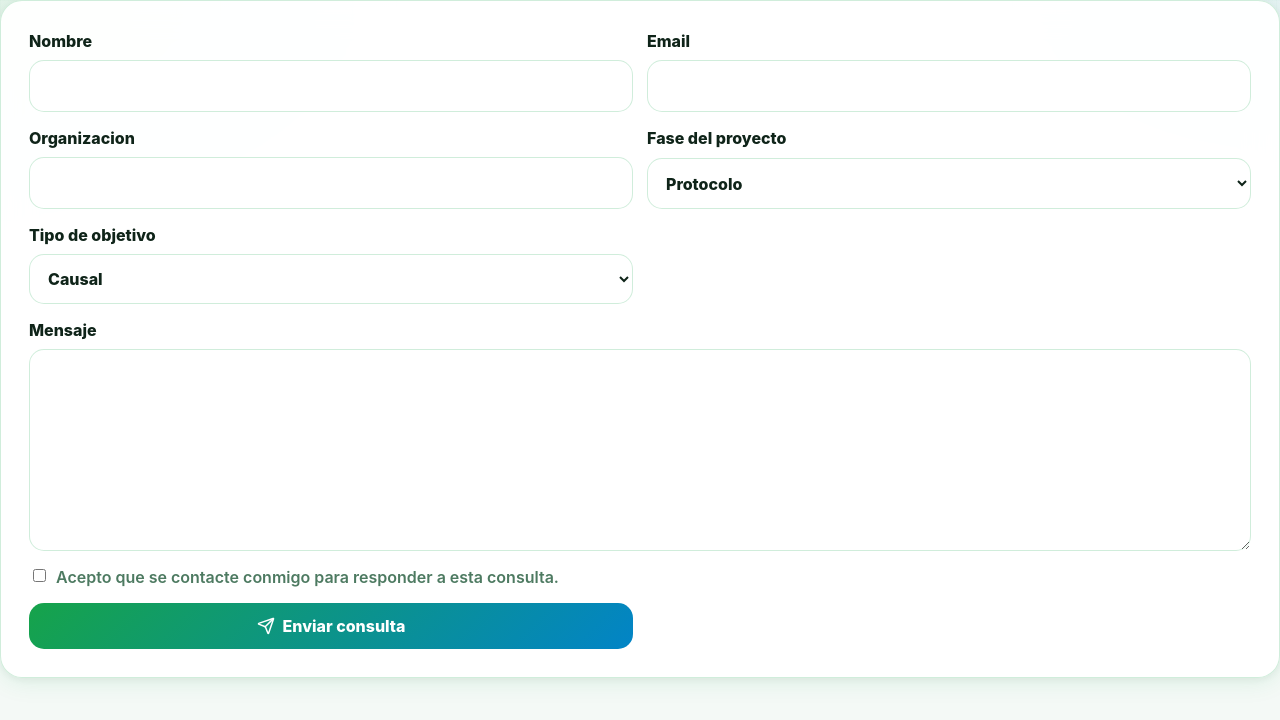
Scenario: ContactForm › shows a message validation error when message is too short
In the field labelled "Nombre": (331, 86) [29,60,633,112], type "Eduardo Tebar"
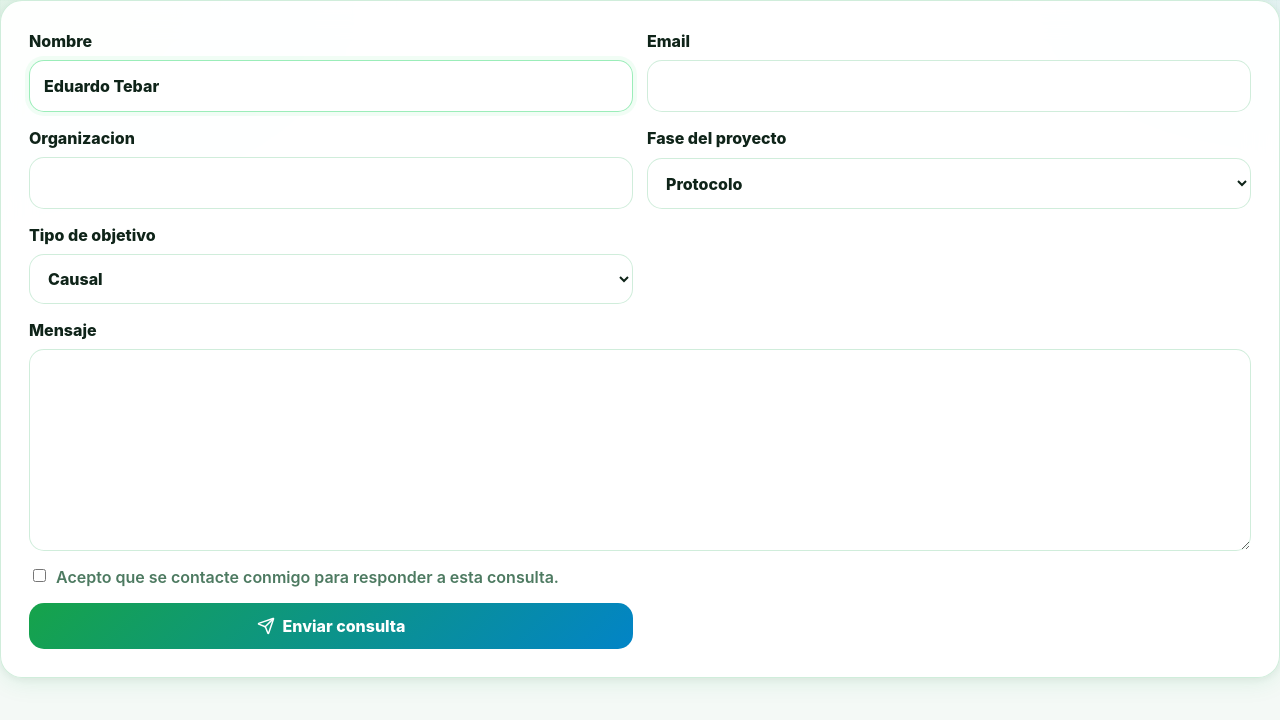
In the field labelled "Email": (949, 86) [647,60,1251,112], type "edu@example.com"
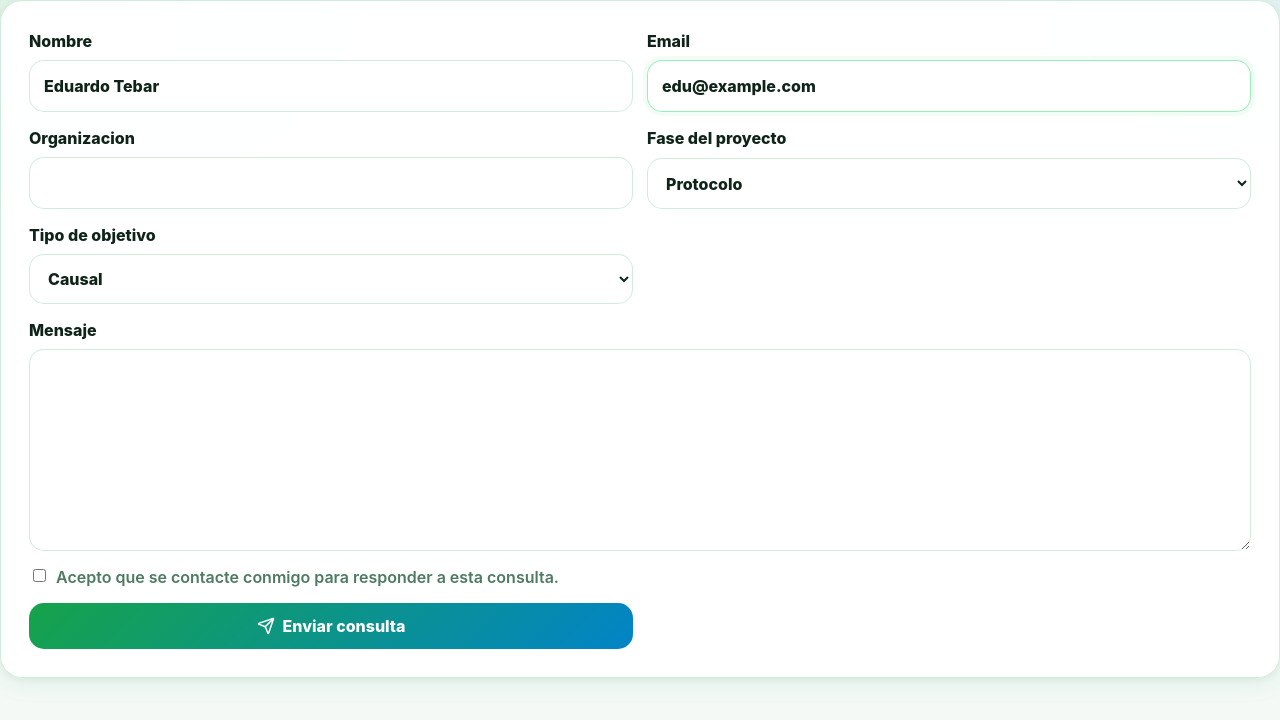
In the text box labelled "Mensaje": (640, 450) [29,349,1251,551], type "Corto"
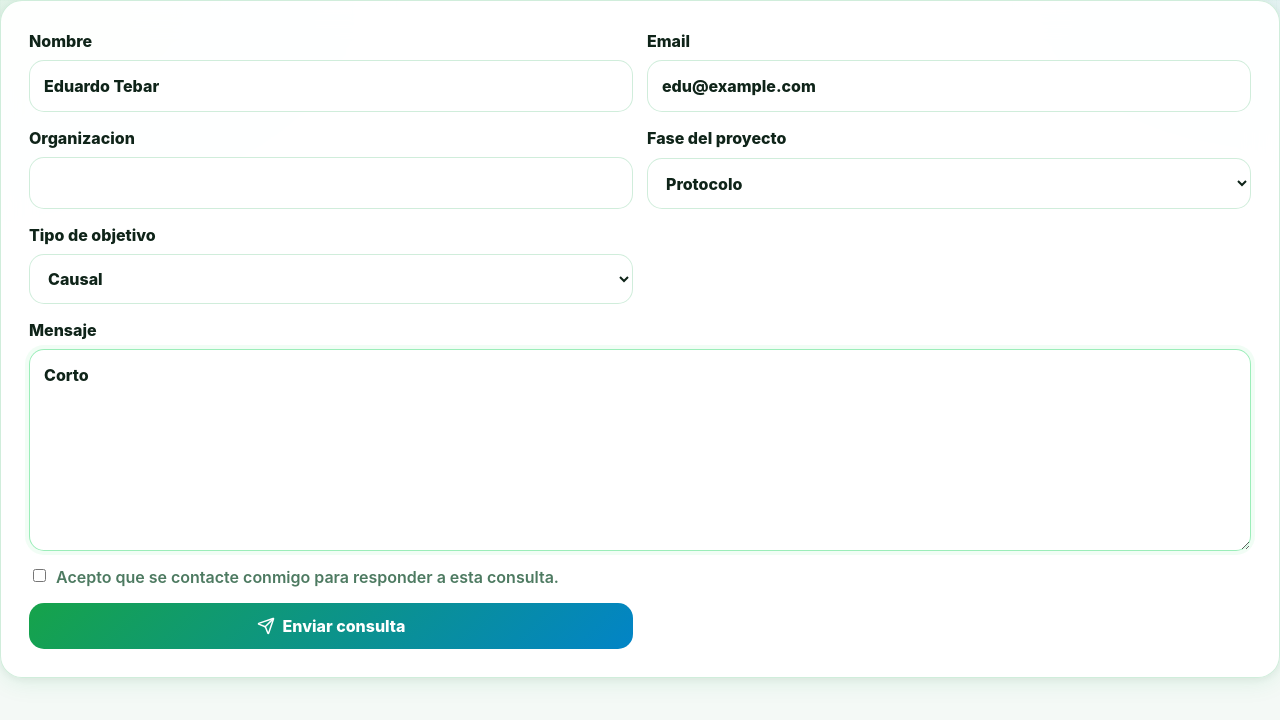
Click the button "Enviar consulta": (331, 626) [29,603,633,649]
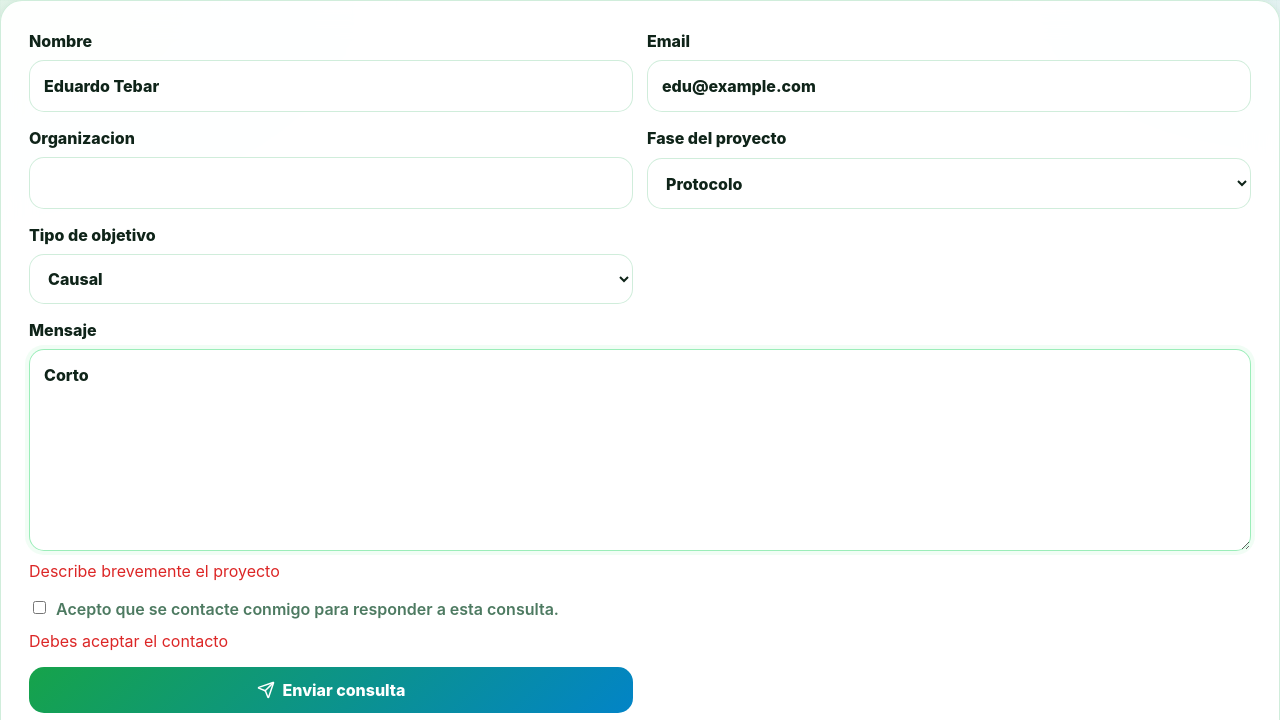
expect the text "Describe brevemente el proyecto" is shown: met, box [29,561,280,581]
